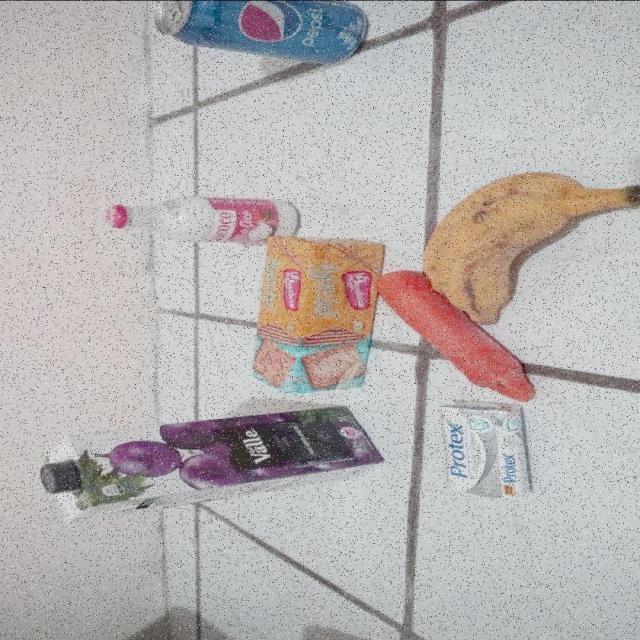Banana: (420, 170, 640, 322)
Carrot: (378, 269, 538, 401)
CoconutMilk: (107, 196, 303, 241)
Cracker: (253, 236, 389, 392)
Soap: (440, 399, 532, 499)
SodaCan: (152, 0, 370, 63)
